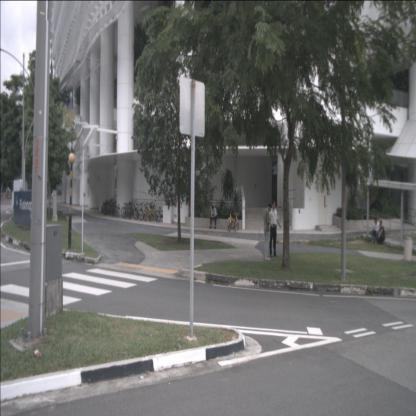human-pedestrian-adult: (269, 200, 281, 258), (263, 204, 274, 261), (374, 220, 385, 246), (370, 217, 380, 244), (209, 205, 218, 229)
vehicle-bicycle: (227, 209, 235, 232), (233, 209, 239, 232), (112, 203, 120, 217)
